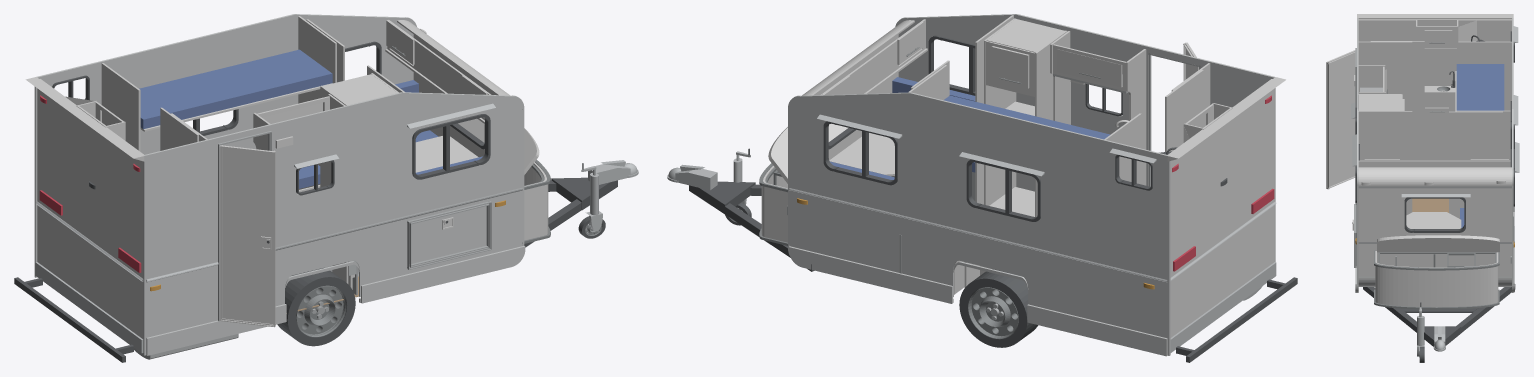
The model's file is INTERIOR GENERAL.glb.
The picture shows the model from 3 angles, left to right: view 1: azimuth 30°, elevation 25°; view 2: azimuth 150°, elevation 25°; view 3: azimuth 270°, elevation 25°; orthographic projection. The views are drawn at different scales.
Visible parts, largest first — view 1: Mesh_Mesh_head_geo.001_lambert2SG.001; view 2: Mesh_Mesh_head_geo.001_lambert2SG.001; view 3: Mesh_Mesh_head_geo.001_lambert2SG.001.
Boxes of the visible parts, x1=… form: Mesh_Mesh_head_geo.001_lambert2SG.001: x1=14, y1=14, x2=638, y2=362; Mesh_Mesh_head_geo.001_lambert2SG.001: x1=667, y1=14, x2=1297, y2=362; Mesh_Mesh_head_geo.001_lambert2SG.001: x1=1326, y1=14, x2=1519, y2=362.
Bounding box in the file's own units: 0.312 × 0.122 × 0.126.
